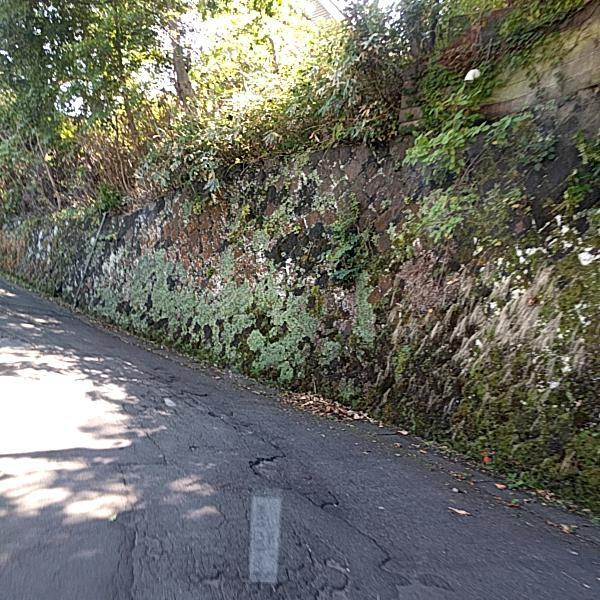pothole: (294, 387, 362, 424)
